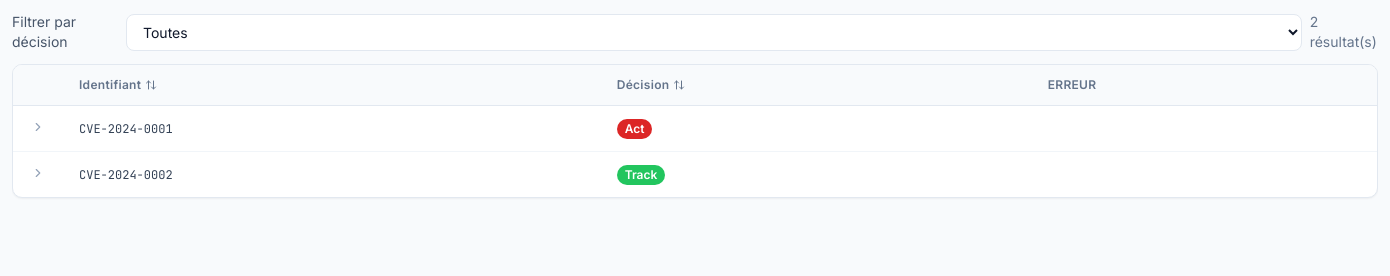
it: BatchResultsTable › déplie l'audit trail au clic
Click the button named "Déplier CVE-2024-0001". click: (38, 127)
box: [29, 118, 47, 136]
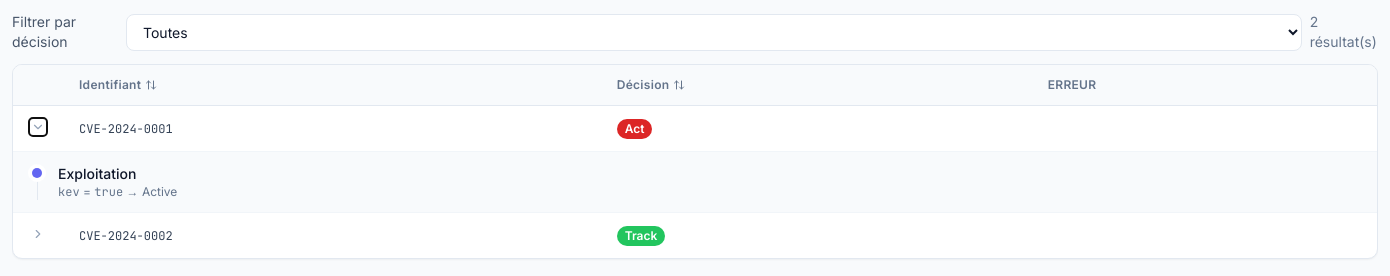
Now the text "Exploitation" is shown, box [58, 165, 136, 182]
